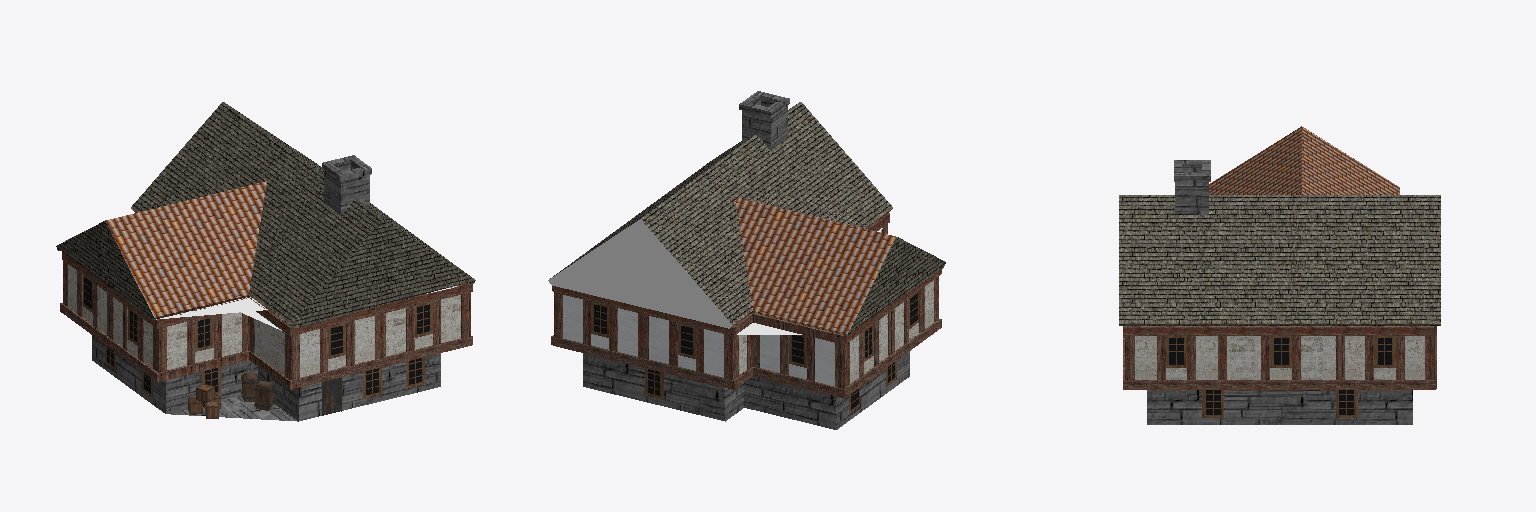
3 views of the same model, side by side, from view 1: azimuth 30°, elevation 25°; view 2: azimuth 150°, elevation 25°; view 3: azimuth 270°, elevation 25° (orthographic).
Visible parts, largest first — view 1: Mesh4 Group1 Model, Mesh2 Group1 Model; view 2: Mesh4 Group1 Model; view 3: Mesh4 Group1 Model.
Boxes of the visible parts, box(x1,y1,x2,y2) form: Mesh4 Group1 Model: box(56, 102, 475, 421); Mesh2 Group1 Model: box(188, 384, 220, 418); Mesh4 Group1 Model: box(548, 91, 945, 429); Mesh4 Group1 Model: box(1119, 126, 1440, 424).
Size of the model in its own units: 19.55 by 14.81 by 19.43.
12 materials, 9 textured.